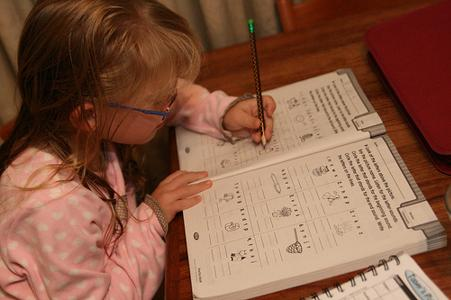person: (1, 2, 279, 299)
